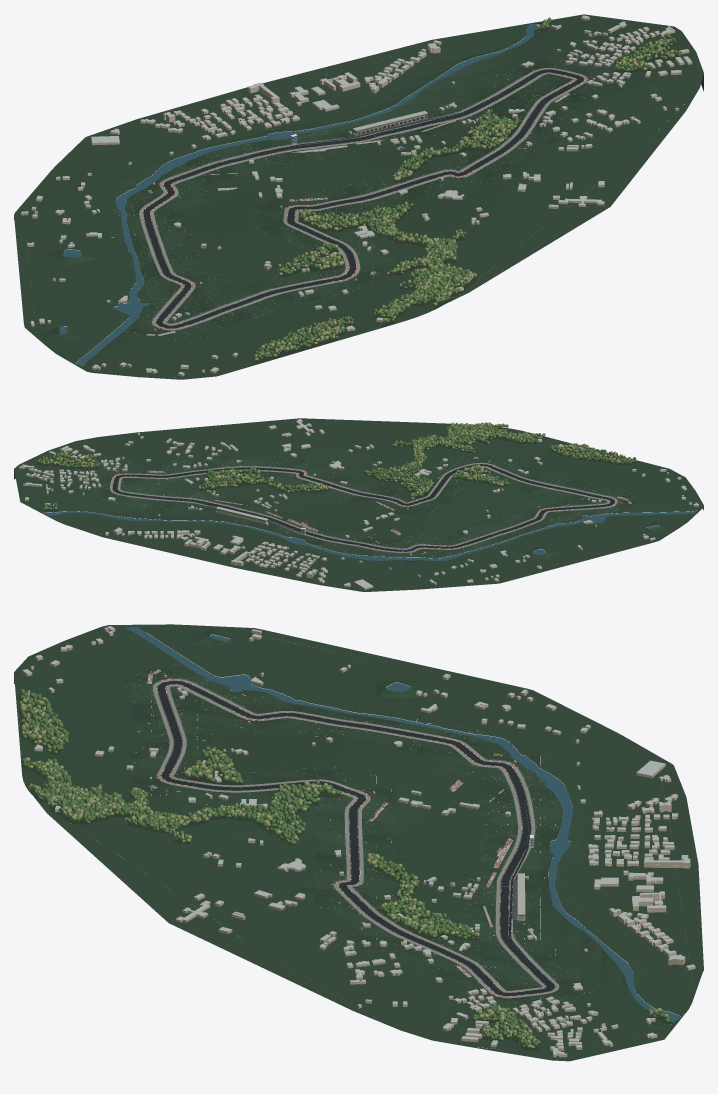
Rendered from Imola.glb.
3 views of the same model, one above another, from view 1: azimuth 30°, elevation 25°; view 2: azimuth 150°, elevation 25°; view 3: azimuth 270°, elevation 25° (orthographic). The views are drawn at different scales.
Visible parts, largest first — view 1: terrain/ground, terrain-extension/land, terrain-ground-finish-1, terrain-ground-finish-3, terrain-ground-finish-2, scenery/leaves, terrain-ground-finish-0, terrain-ground-finish-4, road/asphalt, runoff/gravel, scenery/leavesLight, water-1/water (+7 smaller); view 2: terrain/ground, terrain-ground-finish-1, terrain-extension/land, terrain-ground-finish-3, terrain-ground-finish-2, scenery/leaves, terrain-ground-finish-0, terrain-ground-finish-4, runoff/gravel, road/asphalt, scenery/leavesLight, water-1/water (+7 smaller); view 3: terrain/ground, terrain-extension/land, terrain-ground-finish-1, scenery/leaves, terrain-ground-finish-3, terrain-ground-finish-2, terrain-ground-finish-0, terrain-ground-finish-4, road/asphalt, runoff/gravel, water-1/water, scenery/leavesLight (+5 smaller).
Boxes of the visible parts, x1,y1,x2,y2 form: terrain/ground: [23, 21, 703, 378]; terrain-extension/land: [14, 14, 700, 379]; terrain-ground-finish-1: [109, 59, 600, 342]; terrain-ground-finish-3: [111, 55, 614, 337]; terrain-ground-finish-2: [115, 58, 602, 341]; scenery/leaves: [255, 17, 681, 359]; terrain-ground-finish-0: [120, 59, 602, 341]; terrain-ground-finish-4: [107, 58, 613, 338]; road/asphalt: [143, 69, 584, 328]; runoff/gravel: [139, 68, 587, 330]; scenery/leavesLight: [254, 19, 674, 360]; water-1/water: [75, 24, 542, 366]; terrain/ground: [28, 427, 698, 589]; terrain-ground-finish-1: [98, 453, 634, 562]; terrain-extension/land: [14, 418, 703, 591]; terrain-ground-finish-3: [90, 456, 622, 557]; terrain-ground-finish-2: [95, 453, 633, 558]; scenery/leaves: [36, 422, 636, 509]; terrain-ground-finish-0: [101, 453, 635, 562]; terrain-ground-finish-4: [92, 458, 619, 558]; runoff/gravel: [110, 463, 617, 552]; road/asphalt: [112, 464, 614, 551]; scenery/leavesLight: [42, 422, 637, 509]; water-1/water: [44, 511, 696, 561]; terrain/ground: [18, 624, 693, 1050]; terrain-extension/land: [14, 624, 703, 1061]; terrain-ground-finish-1: [111, 668, 586, 1003]; scenery/leaves: [19, 688, 670, 1048]; terrain-ground-finish-3: [126, 674, 596, 1010]; terrain-ground-finish-2: [120, 664, 595, 1008]; terrain-ground-finish-0: [121, 667, 600, 1003]; terrain-ground-finish-4: [111, 674, 580, 1007]; road/asphalt: [157, 681, 554, 996]; runoff/gravel: [153, 679, 559, 998]; water-1/water: [125, 626, 680, 1022]; scenery/leavesLight: [19, 690, 668, 1047].
Size of the model in its own units: 2591 by 82.78 by 1686.
